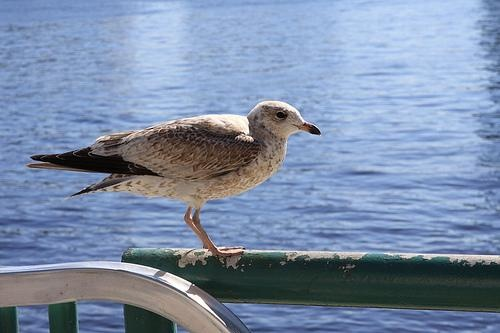bird: (26, 101, 323, 259)
